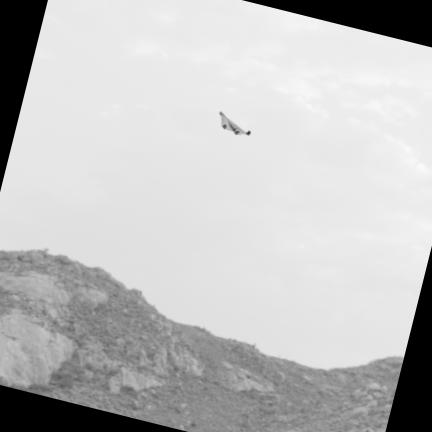Shahed: (219, 112, 249, 134)
